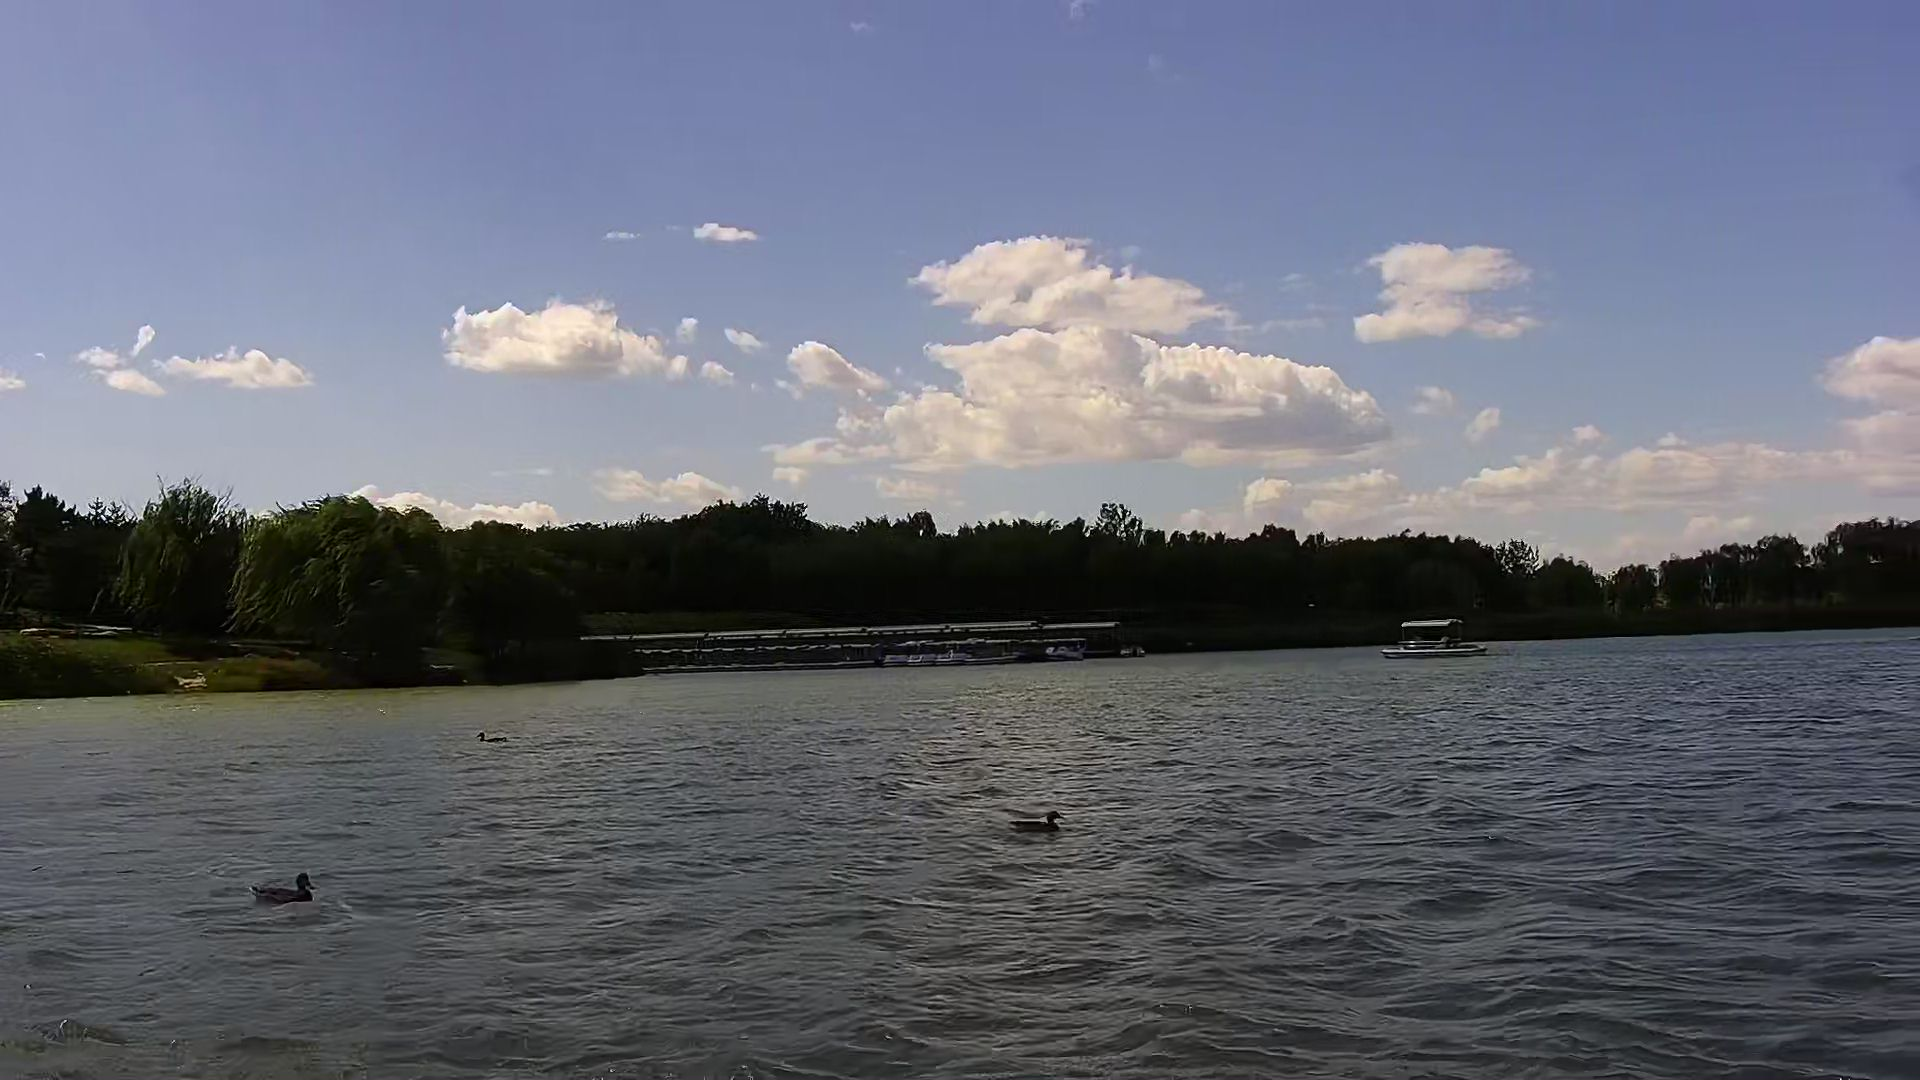animal: (248, 866, 318, 913), (1007, 804, 1059, 829)
boat: (1378, 616, 1491, 658)
harbor: (640, 630, 1125, 659)
rock: (179, 675, 211, 695)
